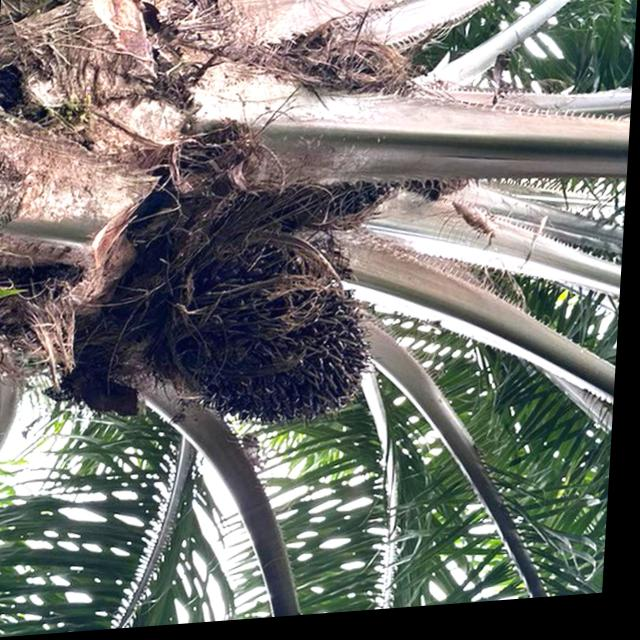ripe: (139, 210, 397, 455)
